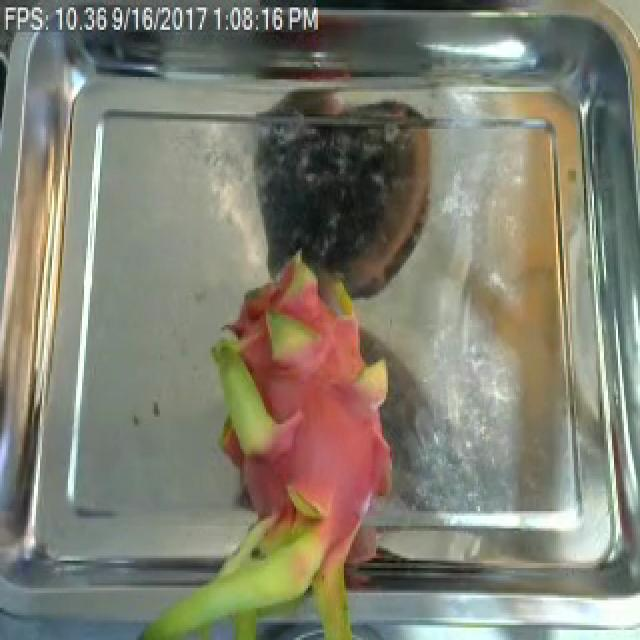fruit: (180, 230, 400, 640)
